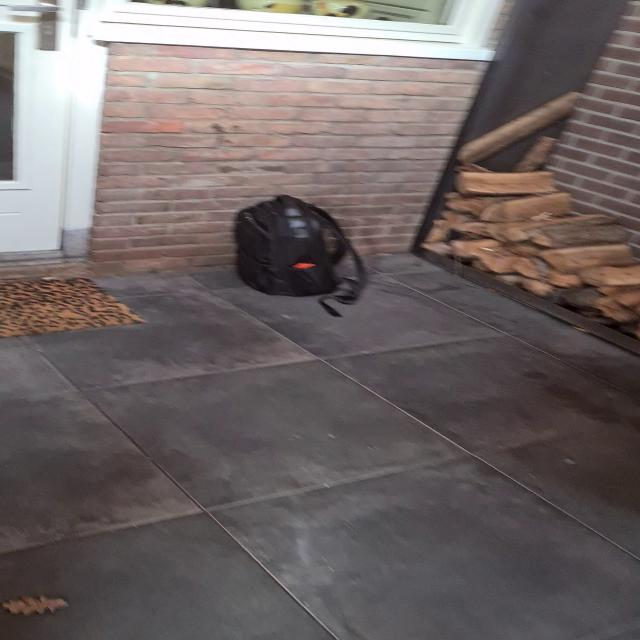backpack: (227, 191, 364, 302)
